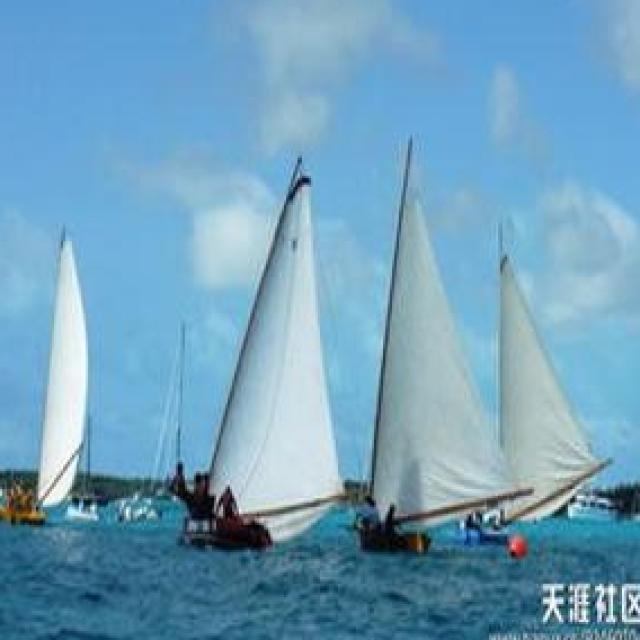sailboat: (359, 135, 518, 552), (194, 164, 348, 542), (476, 226, 608, 548), (0, 223, 86, 525)
